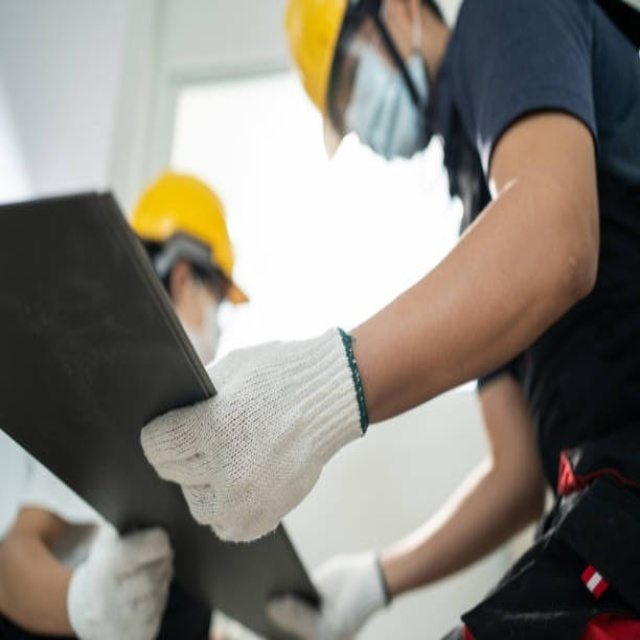Guantes: (140, 325, 367, 547), (262, 541, 392, 638), (69, 521, 174, 632)
Mascara: (342, 18, 430, 162), (185, 281, 223, 370)
